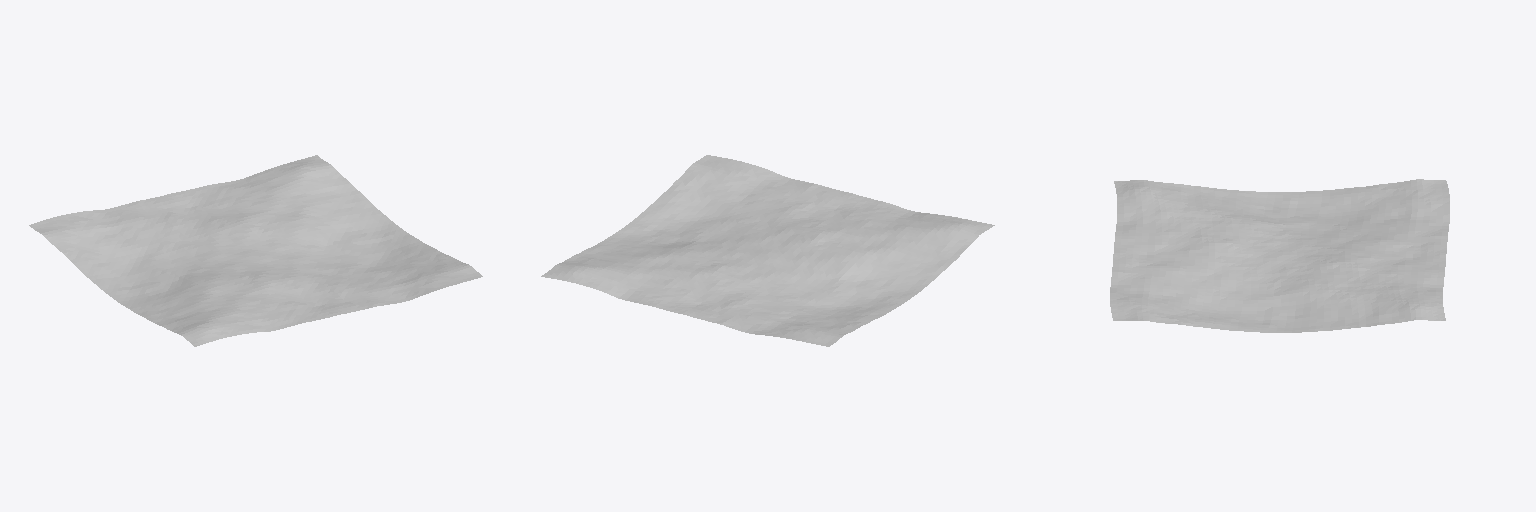
The model's file is desert.obj.
3 views of the same model, side by side, from view 1: azimuth 30°, elevation 25°; view 2: azimuth 150°, elevation 25°; view 3: azimuth 270°, elevation 25° (orthographic).
Parts seen in each view (by area): view 1: Suzanne; view 2: Suzanne; view 3: Suzanne.
Boxes of the visible parts, <box> form: Suzanne: <box>29,155,482,346</box>; Suzanne: <box>541,155,994,346</box>; Suzanne: <box>1110,179,1449,332</box>.
Size of the model in its own units: 50.22 by 2.77 by 51.17.